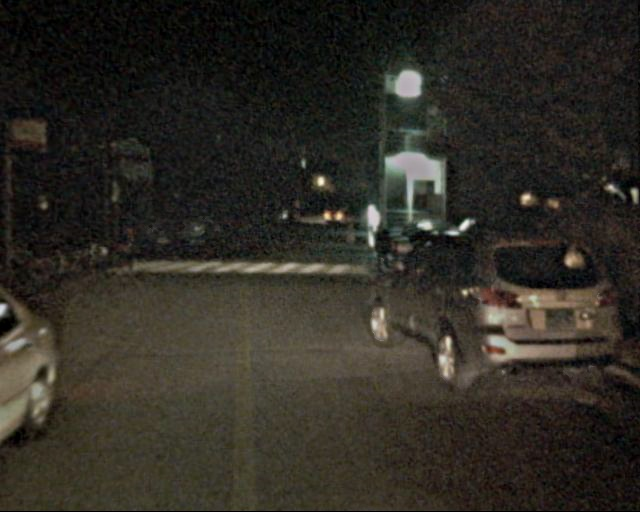person: (371, 223, 395, 282), (113, 215, 136, 271), (170, 214, 181, 253)
